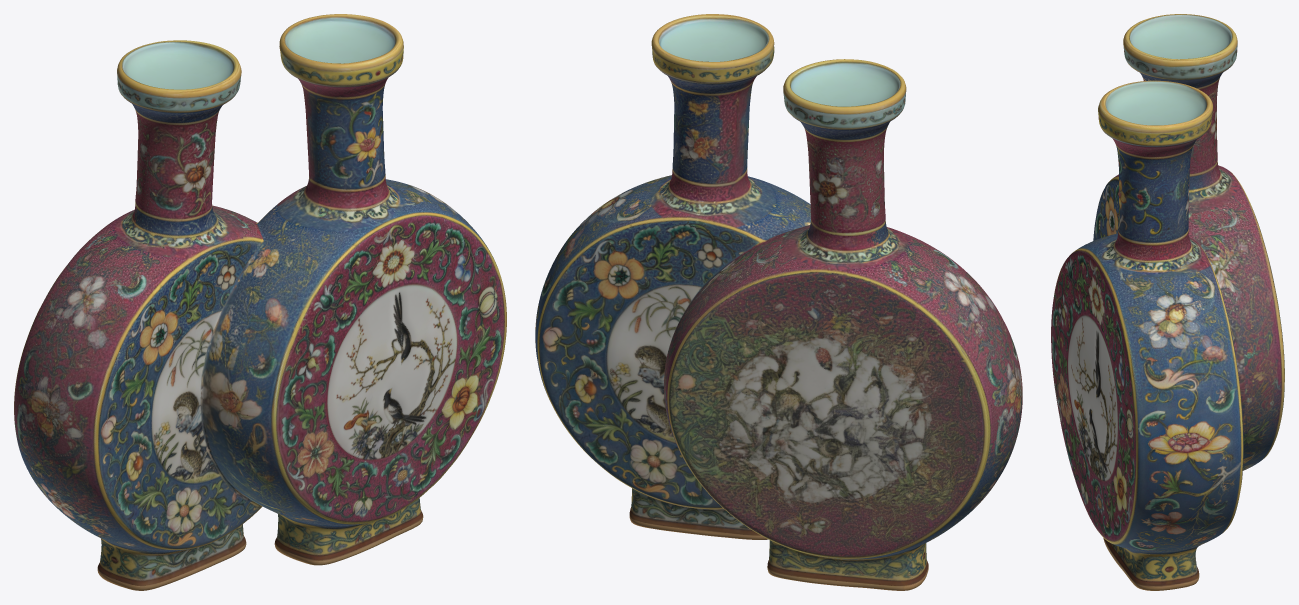
The model's file is 洋彩開光花鳥紋雙連瓶.glb.
3 views of the same model, side by side, from view 1: azimuth 30°, elevation 25°; view 2: azimuth 150°, elevation 25°; view 3: azimuth 270°, elevation 25° (orthographic). The views are drawn at different scales.
Visible parts, largest first — view 1: tripo_node_955fc4e9; view 2: tripo_node_955fc4e9; view 3: tripo_node_955fc4e9.
Part boxes in pixels (x1=…): tripo_node_955fc4e9: x1=14, y1=14, x2=506, y2=590; tripo_node_955fc4e9: x1=535, y1=14, x2=1022, y2=590; tripo_node_955fc4e9: x1=1051, y1=14, x2=1284, y2=590.
Bounding box in the file's own units: 96.97 × 98.11 × 45.74.
Materials: 1 (1 with a texture image).
